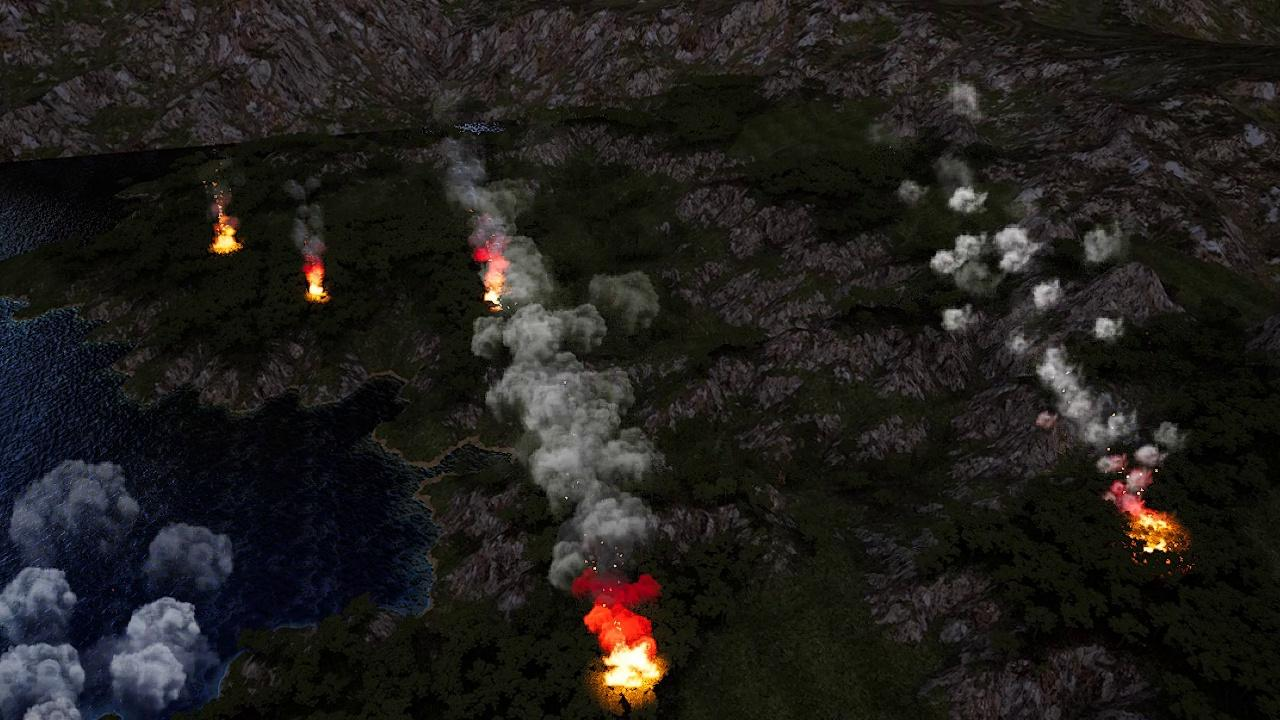fire: (1114, 490, 1181, 553), (599, 639, 665, 692), (475, 249, 510, 308), (210, 203, 241, 254), (302, 262, 327, 303)
smoke: (429, 135, 673, 637), (896, 84, 1188, 488), (0, 450, 232, 715), (284, 176, 332, 263), (207, 161, 237, 205)
